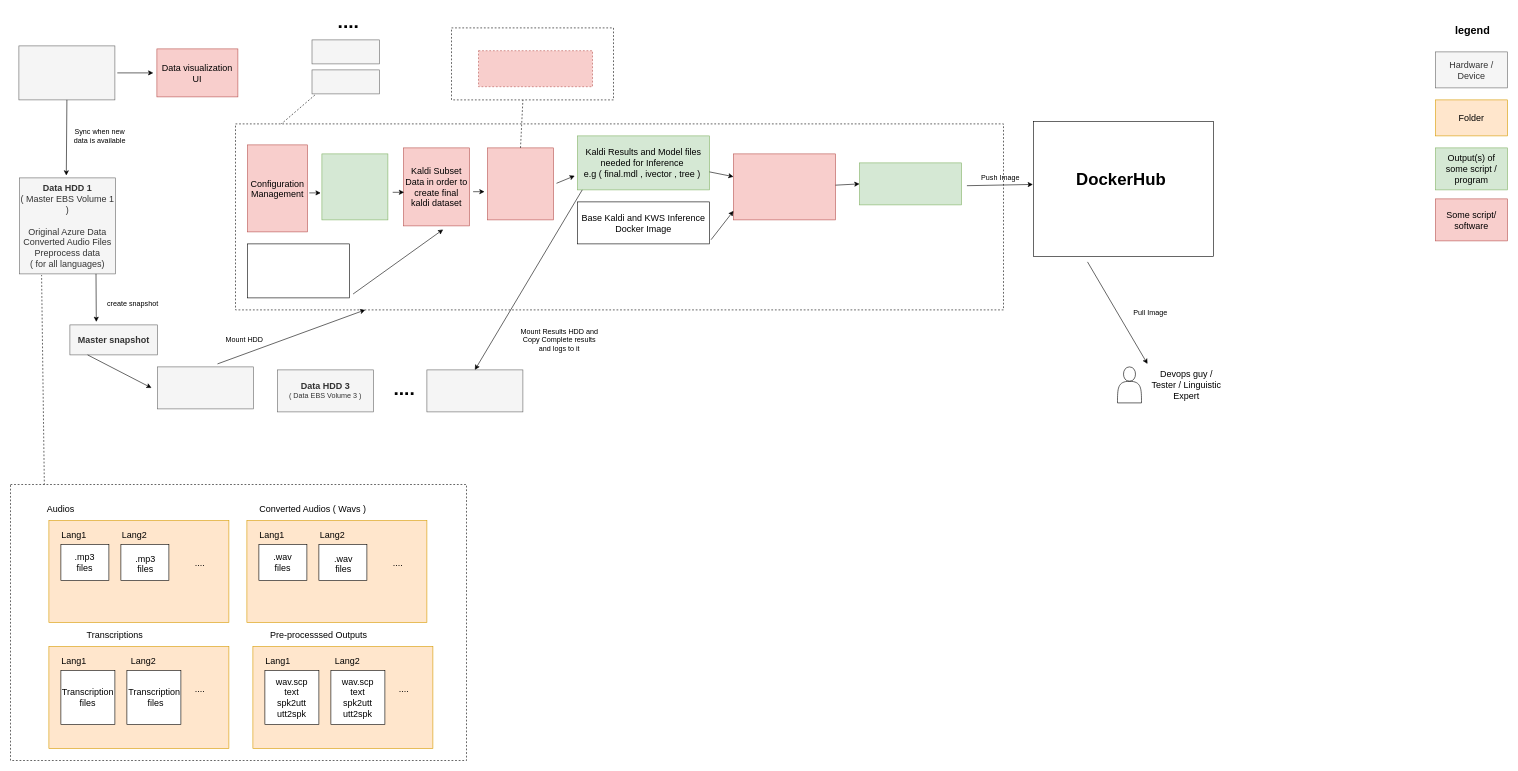
The diagram is 1518 pixels wide and 771 high, and some of its shapes have lost their labels. Each missing label, with the centre of its shape:
"Azure Speech Data & Text Data ( for all languages)" belongs at (66,72).
"Data HDD 2 ( Data EBS Volume 2 )" belongs at (205,387).
"Final Docker Image with model id as tag" belongs at (910,183).
"Final Production Ready Docker Image Building Script" belongs at (784,186).
"Kaldi Github Repo" belongs at (535,68).
"Kaldi Training" belongs at (520,183).
"Lexicon List of train utterance ids List of test utterance ids" belongs at (354,186).
"Preprocessed data ( which is on mounted HDD )" belongs at (298,270).
"Results HDD ( Results EBS Volume )" belongs at (474,390).
"VM 1" belongs at (345,81).
"VM 2" belongs at (345,51).
